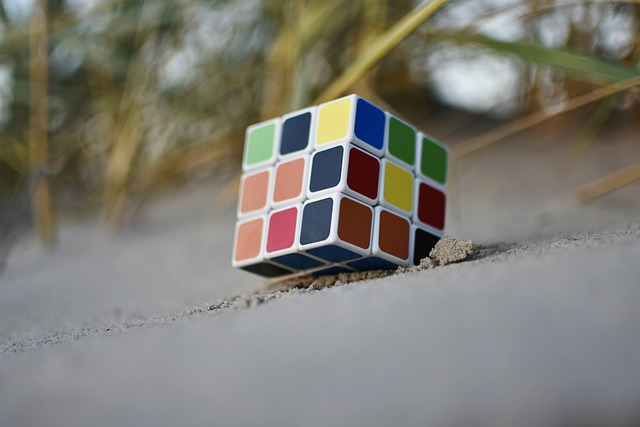cube: (231, 92, 451, 288)
